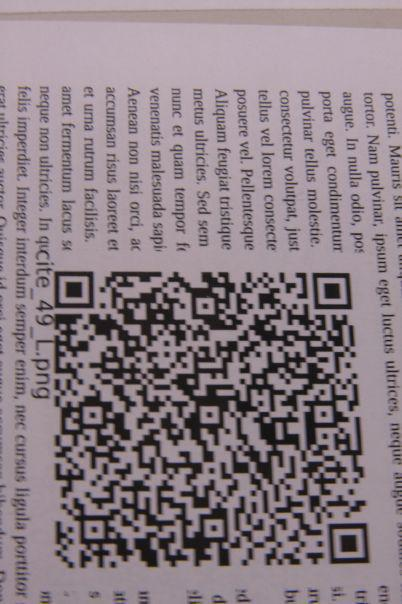Finder pattern: (49, 266, 103, 316), (324, 519, 377, 567), (308, 267, 359, 313)
